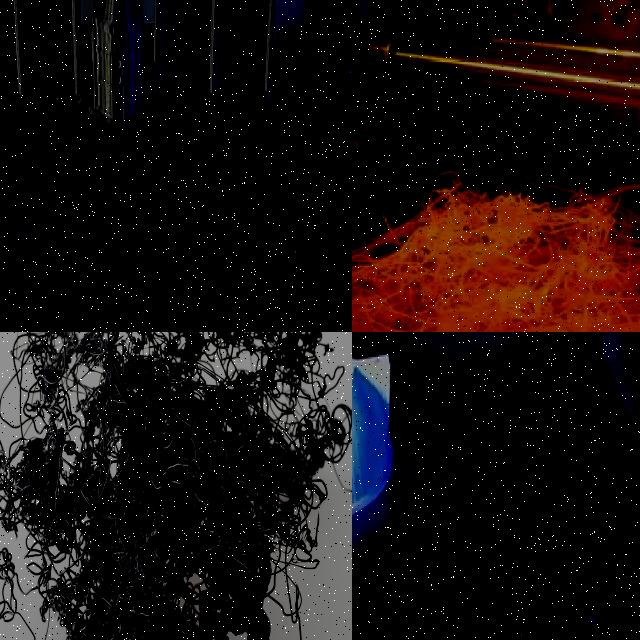spaghetti: (0, 332, 352, 640), (352, 175, 640, 332), (0, 550, 53, 640)
